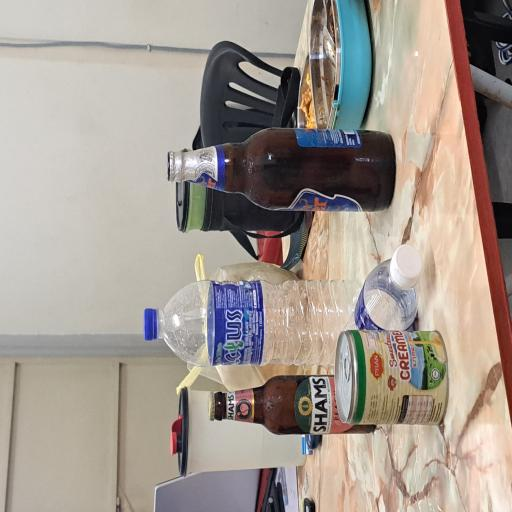can: (64, 446, 137, 512)
glass bottle: (226, 222, 288, 512), (58, 276, 104, 502)
plastic bottle: (108, 210, 174, 485), (135, 456, 190, 512)
plastic bottle cap: (128, 191, 152, 211)
pop tab: (97, 457, 127, 468)
